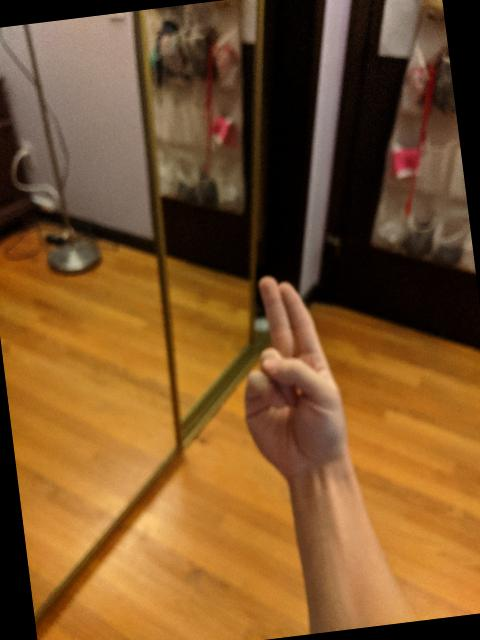U: (222, 264, 358, 492)
